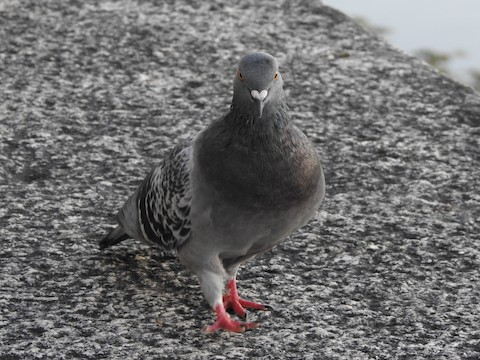pigeon: (97, 43, 335, 336)
